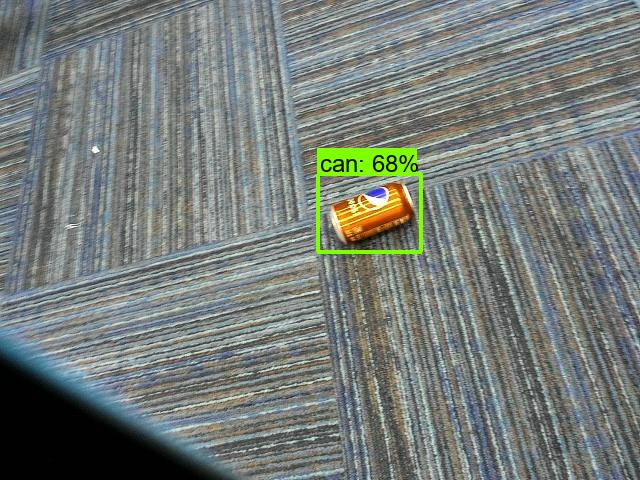can: (310, 158, 424, 256)
